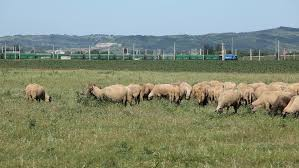sheep: (86, 82, 129, 106), (250, 89, 284, 114), (214, 88, 243, 116), (24, 82, 54, 103), (145, 82, 174, 103), (283, 92, 299, 115), (191, 80, 205, 106), (128, 82, 142, 106), (178, 81, 193, 103)
